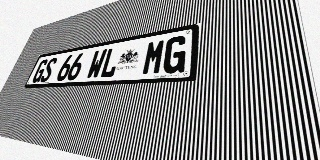6: (65, 52, 87, 81), (55, 54, 75, 81)
G: (161, 35, 188, 74), (31, 59, 49, 83)
L: (99, 46, 122, 78)
M: (141, 38, 167, 75)
S: (39, 57, 58, 82)
W: (85, 49, 108, 79)
